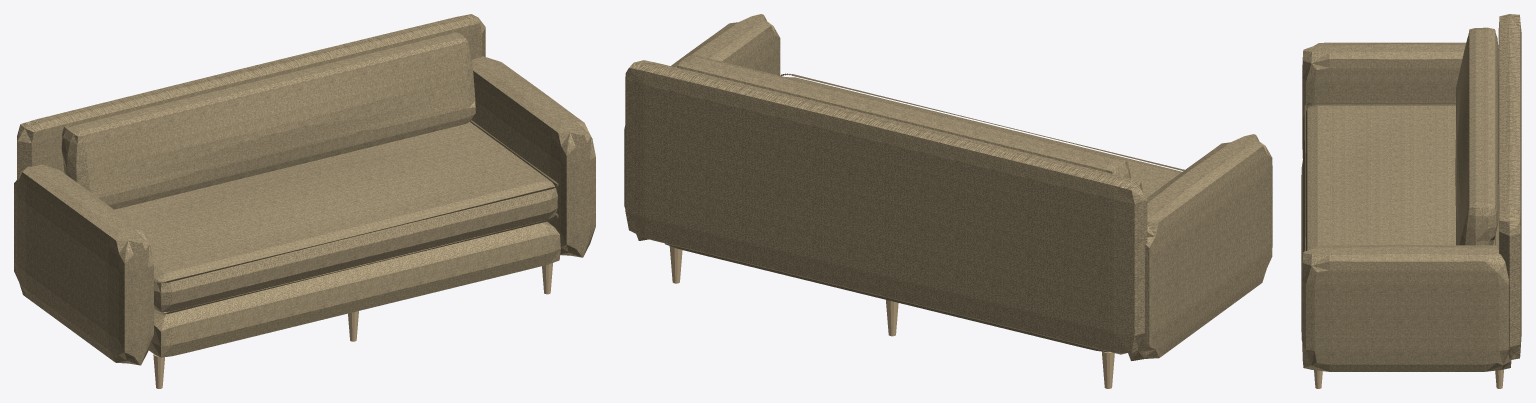
Rendered from SAB-MCS-3-seat.glb.
3 renders of one model, left to right at view 1: azimuth 30°, elevation 25°; view 2: azimuth 150°, elevation 25°; view 3: azimuth 270°, elevation 25°, orthographic. The views are drawn at different scales.
Visible parts, largest first — view 1: seat:fabric:eyJwcmVzZXQiOiJib3VjbGUiLCJ3YXJwIjoic2FuZCIsIndl, inside-back:fabric:eyJwcmVzZXQiOiJib3VjbGUiLCJ3YXJwIjoic2FuZ, arm-pad-l:fabric:eyJwcmVzZXQiOiJib3VjbGUiLCJ3YXJwIjoic2FuZCI, deck:fabric:eyJwcmVzZXQiOiJib3VjbGUiLCJ3YXJwIjoic2FuZCIsIndl, arm-pad-r:fabric:eyJwcmVzZXQiOiJib3VjbGUiLCJ3YXJwIjoic2FuZCI, back-pad:fabric:eyJwcmVzZXQiOiJib3VjbGUiLCJ3YXJwIjoic2FuZCIs, seat:piping:pbr; view 2: back-pad:fabric:eyJwcmVzZXQiOiJib3VjbGUiLCJ3YXJwIjoic2FuZCIs, arm-pad-l:fabric:eyJwcmVzZXQiOiJib3VjbGUiLCJ3YXJwIjoic2FuZCI, inside-back:fabric:eyJwcmVzZXQiOiJib3VjbGUiLCJ3YXJwIjoic2FuZ, arm-pad-r:fabric:eyJwcmVzZXQiOiJib3VjbGUiLCJ3YXJwIjoic2FuZCI, seat:fabric:eyJwcmVzZXQiOiJib3VjbGUiLCJ3YXJwIjoic2FuZCIsIndl, deck:fabric:eyJwcmVzZXQiOiJib3VjbGUiLCJ3YXJwIjoic2FuZCIsIndl, seat:piping:pbr; view 3: arm-pad-r:fabric:eyJwcmVzZXQiOiJib3VjbGUiLCJ3YXJwIjoic2FuZCI, seat:fabric:eyJwcmVzZXQiOiJib3VjbGUiLCJ3YXJwIjoic2FuZCIsIndl, arm-pad-l:fabric:eyJwcmVzZXQiOiJib3VjbGUiLCJ3YXJwIjoic2FuZCI, inside-back:fabric:eyJwcmVzZXQiOiJib3VjbGUiLCJ3YXJwIjoic2FuZ, back-pad:fabric:eyJwcmVzZXQiOiJib3VjbGUiLCJ3YXJwIjoic2FuZCIs, deck:fabric:eyJwcmVzZXQiOiJib3VjbGUiLCJ3YXJwIjoic2FuZCIsIndl, seat:piping:pbr.
Part boxes in pixels (box(x1,y1,x2,y2)): seat:fabric:eyJwcmVzZXQiOiJib3VjbGUiLCJ3YXJwIjoic2FuZCIsIndl: box(114, 122, 557, 312); inside-back:fabric:eyJwcmVzZXQiOiJib3VjbGUiLCJ3YXJwIjoic2FuZ: box(61, 31, 475, 209); arm-pad-l:fabric:eyJwcmVzZXQiOiJib3VjbGUiLCJ3YXJwIjoic2FuZCI: box(14, 164, 153, 365); deck:fabric:eyJwcmVzZXQiOiJib3VjbGUiLCJ3YXJwIjoic2FuZCIsIndl: box(149, 220, 560, 357); arm-pad-r:fabric:eyJwcmVzZXQiOiJib3VjbGUiLCJ3YXJwIjoic2FuZCI: box(469, 56, 595, 257); back-pad:fabric:eyJwcmVzZXQiOiJib3VjbGUiLCJ3YXJwIjoic2FuZCIs: box(17, 14, 485, 179); seat:piping:pbr: box(154, 120, 558, 314); back-pad:fabric:eyJwcmVzZXQiOiJib3VjbGUiLCJ3YXJwIjoic2FuZCIs: box(625, 60, 1147, 354); arm-pad-l:fabric:eyJwcmVzZXQiOiJib3VjbGUiLCJ3YXJwIjoic2FuZCI: box(1128, 134, 1272, 360); inside-back:fabric:eyJwcmVzZXQiOiJib3VjbGUiLCJ3YXJwIjoic2FuZ: box(677, 54, 1130, 178); arm-pad-r:fabric:eyJwcmVzZXQiOiJib3VjbGUiLCJ3YXJwIjoic2FuZCI: box(624, 14, 780, 240); seat:fabric:eyJwcmVzZXQiOiJib3VjbGUiLCJ3YXJwIjoic2FuZCIsIndl: box(786, 77, 1181, 198); deck:fabric:eyJwcmVzZXQiOiJib3VjbGUiLCJ3YXJwIjoic2FuZCIsIndl: box(665, 243, 1108, 352); seat:piping:pbr: box(779, 73, 1184, 170); arm-pad-r:fabric:eyJwcmVzZXQiOiJib3VjbGUiLCJ3YXJwIjoic2FuZCI: box(1302, 245, 1511, 371); seat:fabric:eyJwcmVzZXQiOiJib3VjbGUiLCJ3YXJwIjoic2FuZCIsIndl: box(1303, 104, 1497, 253); arm-pad-l:fabric:eyJwcmVzZXQiOiJib3VjbGUiLCJ3YXJwIjoic2FuZCI: box(1302, 42, 1498, 158); inside-back:fabric:eyJwcmVzZXQiOiJib3VjbGUiLCJ3YXJwIjoic2FuZ: box(1455, 27, 1498, 245); back-pad:fabric:eyJwcmVzZXQiOiJib3VjbGUiLCJ3YXJwIjoic2FuZCIs: box(1498, 14, 1521, 359); deck:fabric:eyJwcmVzZXQiOiJib3VjbGUiLCJ3YXJwIjoic2FuZCIsIndl: box(1301, 160, 1498, 341); seat:piping:pbr: box(1304, 102, 1495, 251).
Size of the model in its own units: 2 by 0.78 by 0.85.
13 materials, 6 textured.
